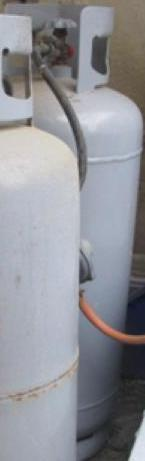cylinder: (1, 1, 145, 461)
